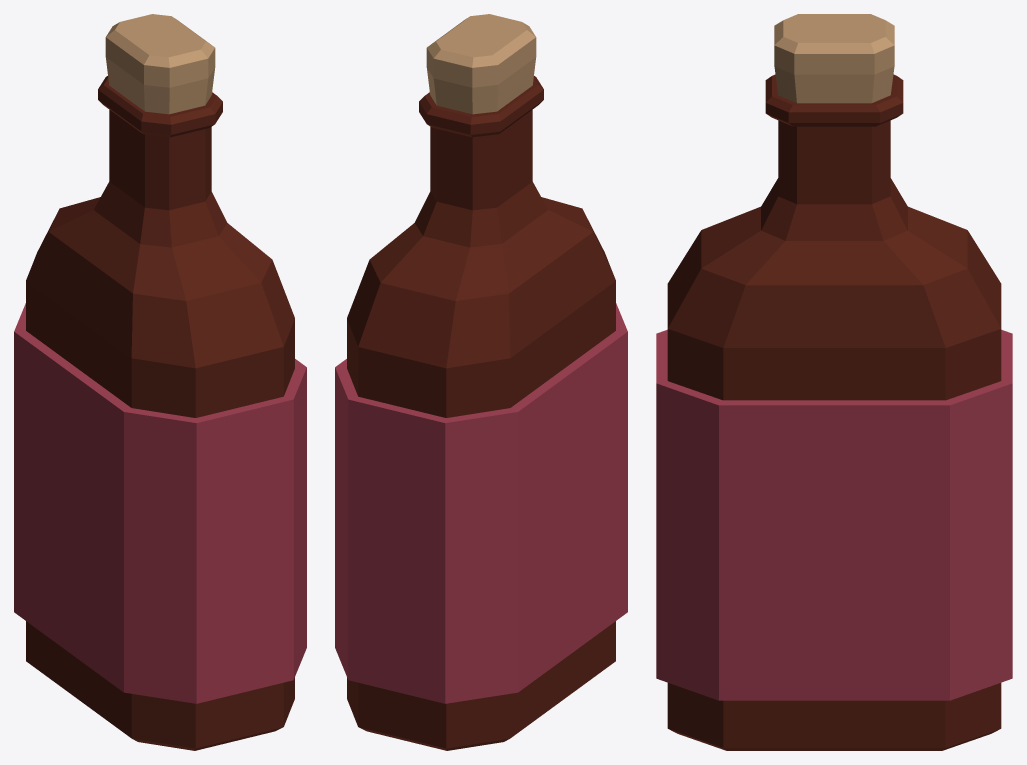
The model's file is Bottle D-col.glb.
3 renders of one model, left to right at view 1: azimuth 30°, elevation 25°; view 2: azimuth 150°, elevation 25°; view 3: azimuth 270°, elevation 25°, orthographic. The views are drawn at different scales.
Parts seen in each view (by area): view 1: Bottle D-col; view 2: Bottle D-col; view 3: Bottle D-col.
Part boxes in pixels (x1,y1,x2,y2): Bottle D-col: [14, 14, 306, 750]; Bottle D-col: [335, 14, 627, 750]; Bottle D-col: [656, 14, 1012, 750].
Bounding box in the file's own units: 0.063 × 0.2139 × 0.1009.
